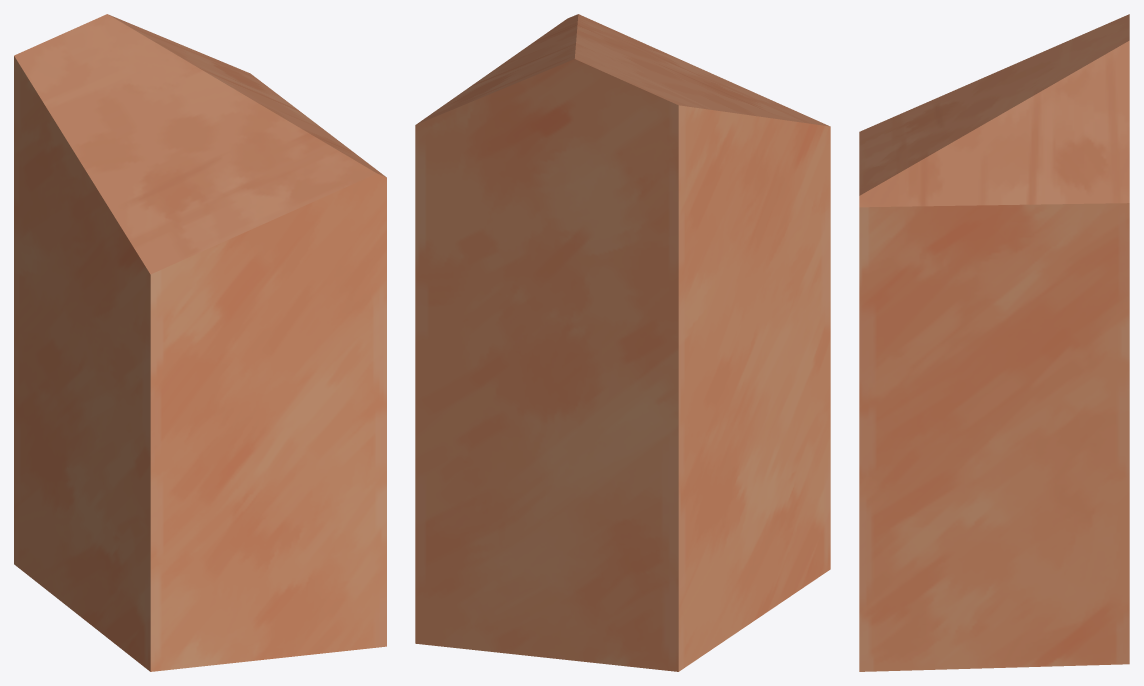
File: corner2_upper_s02.fbx
The picture shows the model from 3 angles, left to right: view 1: azimuth 30°, elevation 25°; view 2: azimuth 150°, elevation 25°; view 3: azimuth 270°, elevation 25°; orthographic projection. The views are drawn at different scales.
Parts seen in each view (by area): view 1: corner2_upper_s02; view 2: corner2_upper_s02; view 3: corner2_upper_s02.
Part boxes in pixels (x1,y1,x2,y2): corner2_upper_s02: (14, 14, 386, 671); corner2_upper_s02: (415, 14, 830, 671); corner2_upper_s02: (859, 14, 1129, 671).
Bounding box in the file's own units: 1.6 × 3.67 × 1.6.
